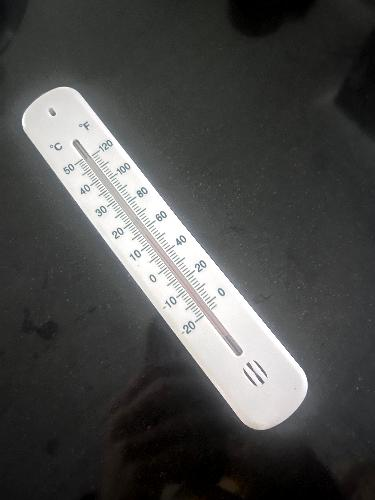thermo: (19, 72, 314, 430)
